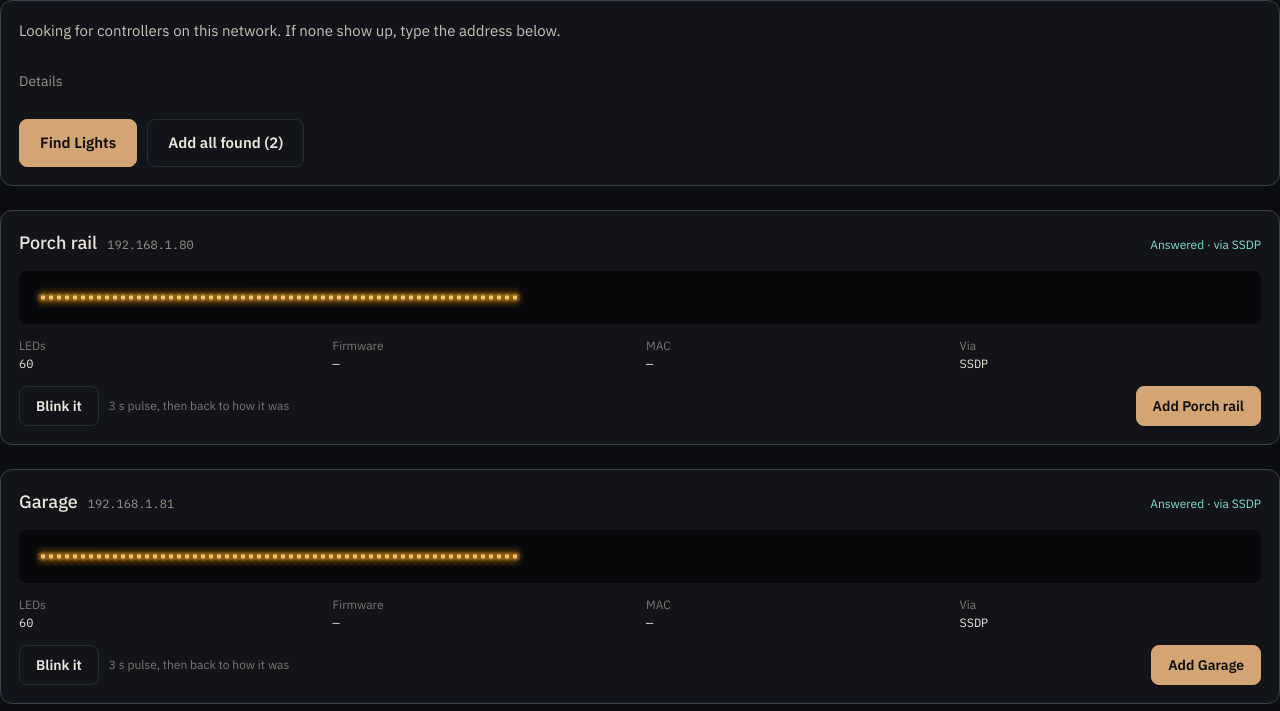
Test: DiscoverPanel Add all found › enrolls every found candidate and lists per-host results
Click the button "Add all found (2)" at (226, 143), box [147,119,304,167]
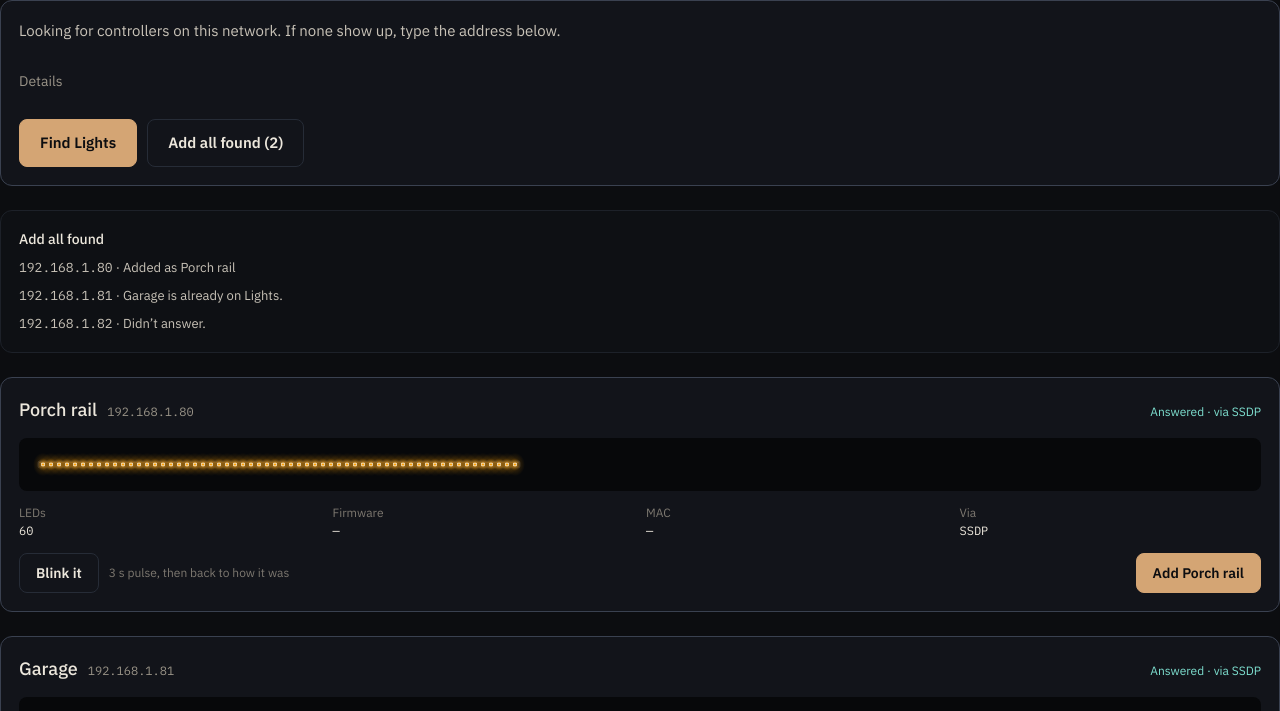
Result: the text "192.168.1.80 · Added as Porch rail" is shown at [19,259,236,276]
Result: the text "192.168.1.81 · Garage is already on Lights." is shown at [19,287,283,304]
Result: the text "192.168.1.82 · Didn’t answer." is shown at [19,315,206,332]
